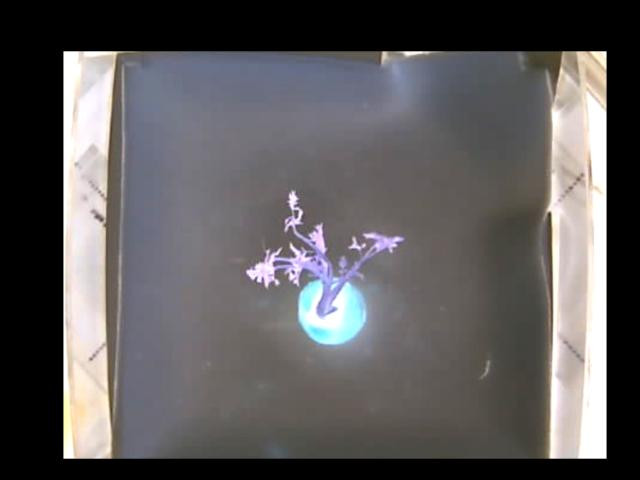Carrot: (245, 187, 407, 344)
